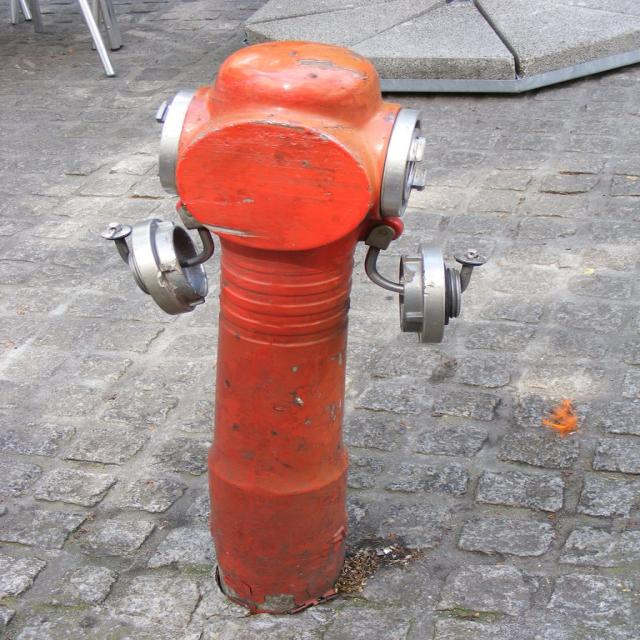fire_hydrant: (100, 39, 487, 610)
